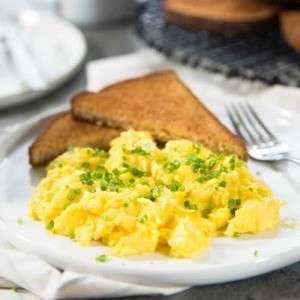egg_brain food: (68, 151, 229, 245)
